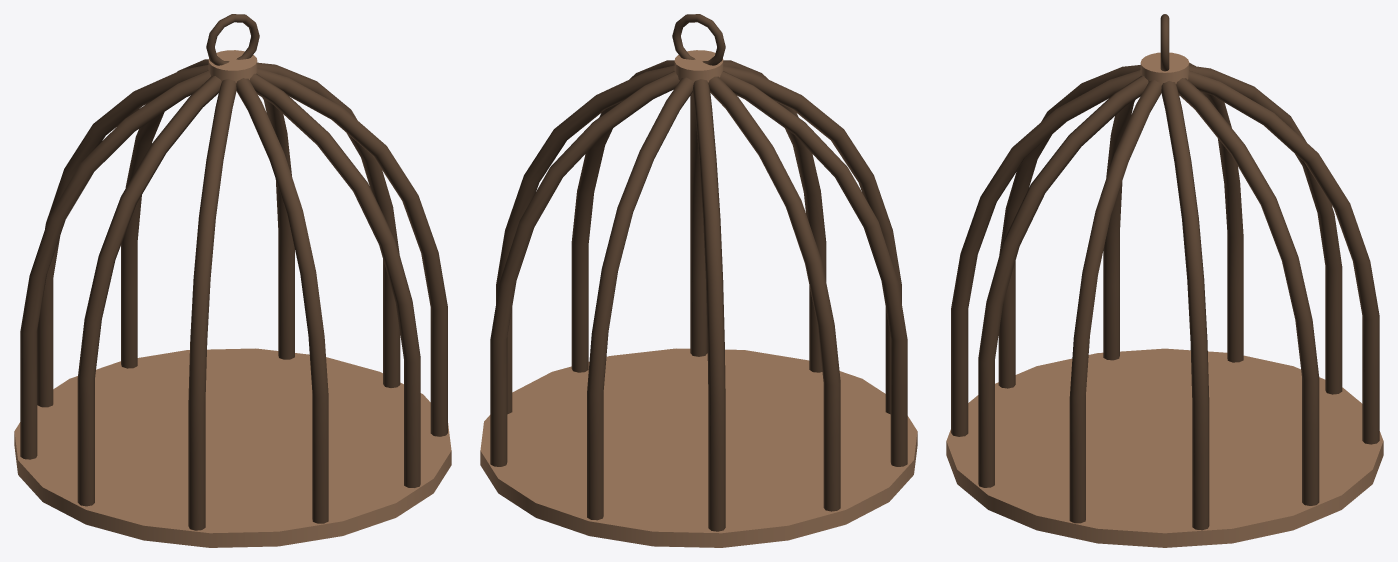
File: cage.fbx
3 views of the same model, side by side, from view 1: azimuth 30°, elevation 25°; view 2: azimuth 150°, elevation 25°; view 3: azimuth 270°, elevation 25° (orthographic).
Visible parts, largest first — view 1: pCylinder29, pCylinder34, pCylinder37, pCylinder35, pCylinder33, pCylinder36, pCylinder38, pCylinder32, pCylinder39, pCylinder30, pCylinder40, pCylinder31 (+1 smaller); view 2: pCylinder29, pCylinder33, pCylinder32, pCylinder40, pCylinder30, pCylinder34, pCylinder35, pCylinder39, pCylinder38, pCylinder37, pCylinder36, pCylinder31 (+1 smaller); view 3: pCylinder29, pCylinder40, pCylinder37, pCylinder39, pCylinder30, pCylinder38, pCylinder36, pCylinder32, pCylinder35, pCylinder33, pCylinder34, pCylinder31 (+1 smaller).
Boxes of the visible parts, x1,y1,x2,y2 form: pCylinder29: (14, 348, 451, 547); pCylinder34: (77, 76, 221, 506); pCylinder37: (249, 73, 420, 487); pCylinder35: (188, 79, 236, 530); pCylinder33: (20, 70, 210, 459); pCylinder36: (236, 78, 328, 523); pCylinder38: (257, 68, 447, 436); pCylinder32: (37, 65, 208, 407); pCylinder39: (257, 62, 400, 387); pCylinder30: (121, 59, 208, 368); pCylinder40: (262, 98, 294, 359); pCylinder31: (208, 50, 257, 83); pCylinder29: (480, 348, 917, 547); pCylinder33: (708, 76, 840, 511); pCylinder32: (692, 79, 725, 531); pCylinder40: (490, 71, 679, 466); pCylinder30: (587, 77, 693, 520); pCylinder34: (720, 71, 907, 466); pCylinder35: (723, 65, 901, 414); pCylinder39: (496, 65, 674, 414); pCylinder38: (571, 60, 674, 372); pCylinder37: (690, 92, 707, 356); pCylinder36: (723, 60, 826, 372); pCylinder31: (674, 50, 723, 83); pCylinder29: (946, 348, 1383, 547); pCylinder40: (1176, 78, 1319, 505); pCylinder37: (978, 76, 1148, 487); pCylinder39: (1161, 81, 1209, 530); pCylinder30: (1188, 71, 1379, 444); pCylinder38: (1069, 80, 1161, 523); pCylinder36: (951, 70, 1141, 436); pCylinder32: (1189, 65, 1342, 394); pCylinder35: (998, 65, 1140, 388); pCylinder33: (1189, 63, 1243, 362); pCylinder34: (1103, 100, 1135, 360); pCylinder31: (1140, 52, 1189, 85).
Bounding box in the file's own units: 2.03 × 2.25 × 2.03.
